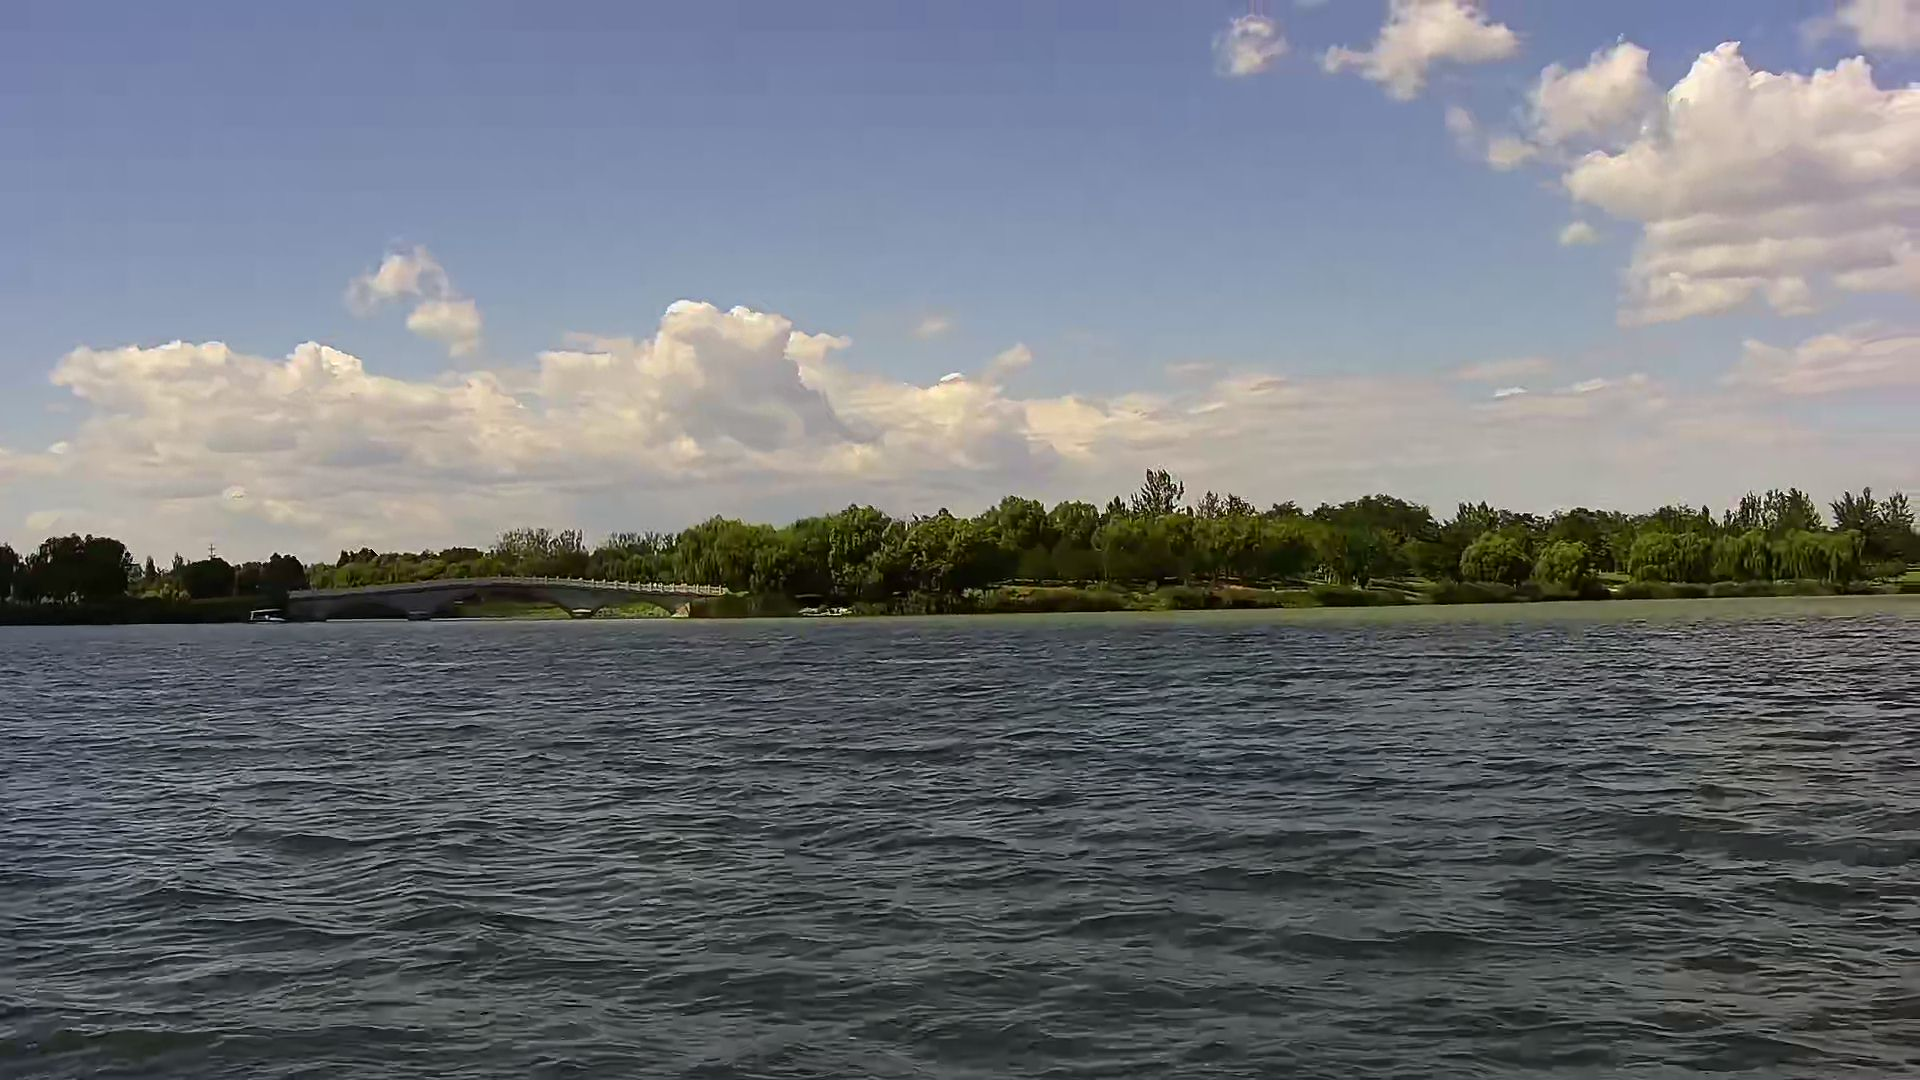bridge: (287, 568, 742, 621)
